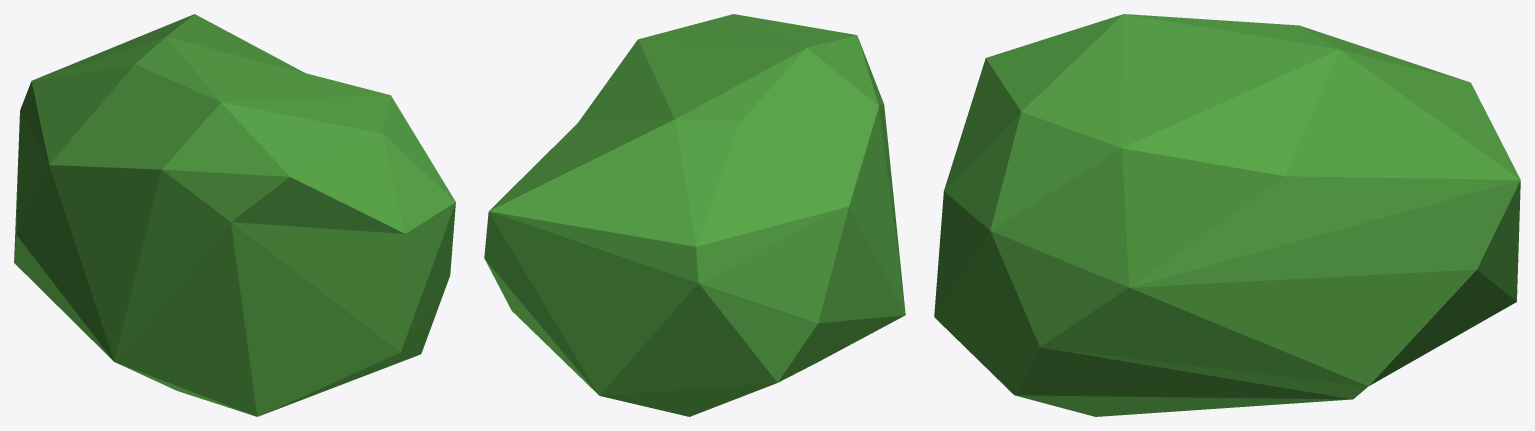
File: grass1.glb
3 renders of one model, left to right at view 1: azimuth 30°, elevation 25°; view 2: azimuth 150°, elevation 25°; view 3: azimuth 270°, elevation 25°, orthographic. The views are drawn at different scales.
Visible parts, largest first — view 1: Hedge; view 2: Hedge; view 3: Hedge.
Part boxes in pixels (x1,y1,x2,y2): Hedge: [14, 14, 455, 416]; Hedge: [484, 14, 905, 416]; Hedge: [934, 14, 1520, 416].
Size of the model in its own units: 0.8288 by 0.7882 by 1.16.
